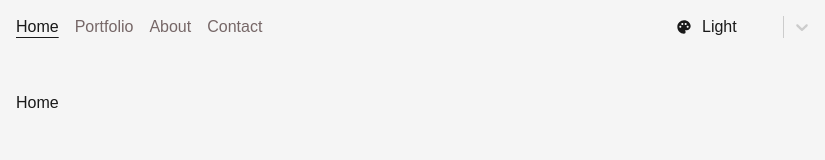
Test: App component › on big screens › navigates to the 'About' section when 'About' is clicked in the navigation bar
Step 1. Click the link "About" → point(170, 27), box left=149, top=18, right=191, bottom=36
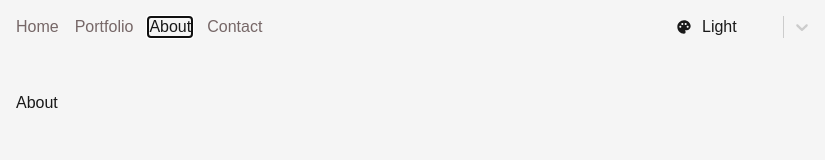
expect the text "About" is shown: met, box left=16, top=94, right=58, bottom=111
